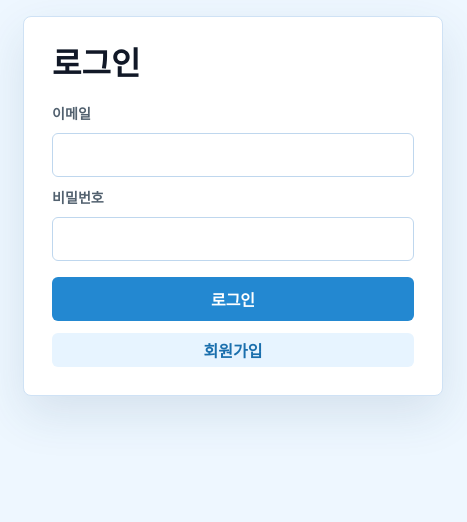
Scenario: App auth flow › 회원가입 성공
Click the button "회원가입" at (233, 350), box [52,333,414,367]
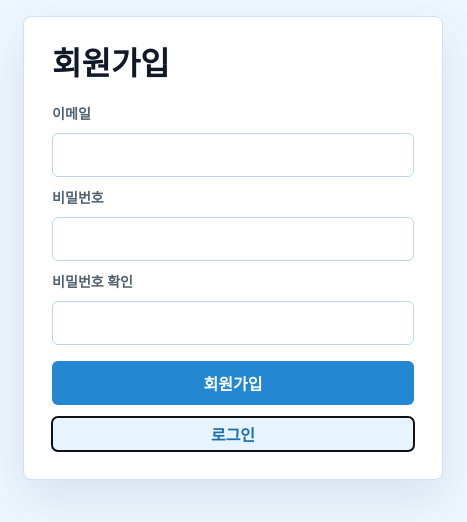
Type "new@example.com" into the field labelled "이메일" at (233, 155), box [52,133,414,177]
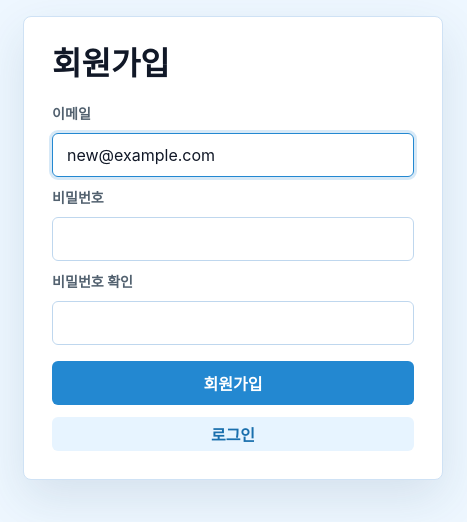
Type "password123" into the password field labelled "비밀번호" at (233, 239), box [52,217,414,261]
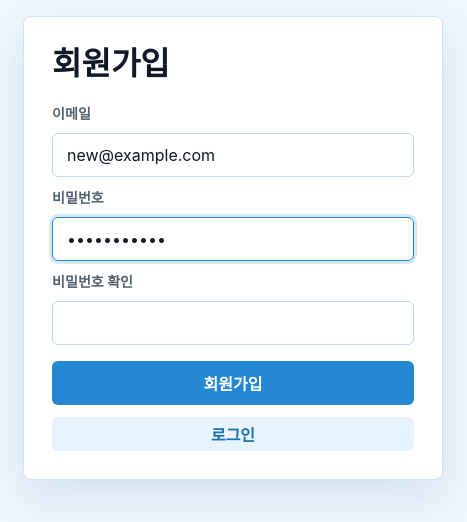
Type "password123" into the password field labelled "비밀번호 확인" at (233, 323), box [52,301,414,345]
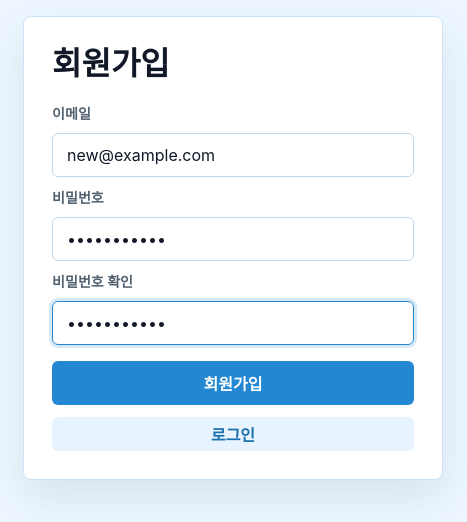
Click the button "회원가입" at (233, 383), box [52,361,414,405]
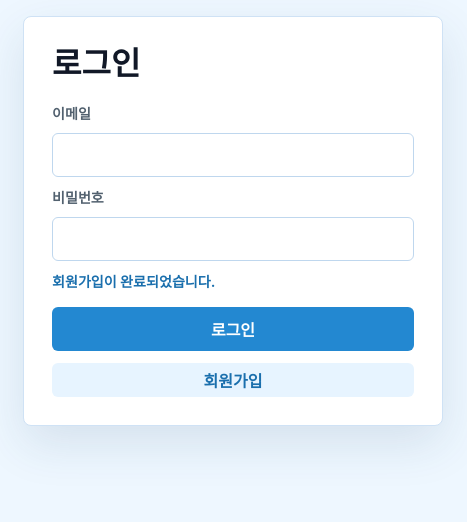
Expected: the text "회원가입이 완료되었습니다." is shown, [52,273,216,290]
Expected: the heading "로그인" is shown, [52,44,140,83]
Expected: the label labelled "비밀번호 확인" is gone
